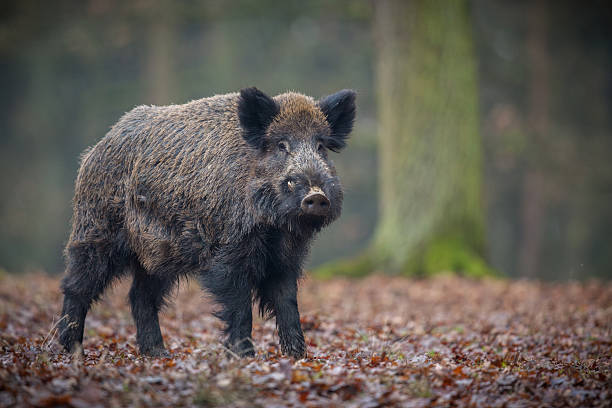pig: (29, 86, 361, 349)
